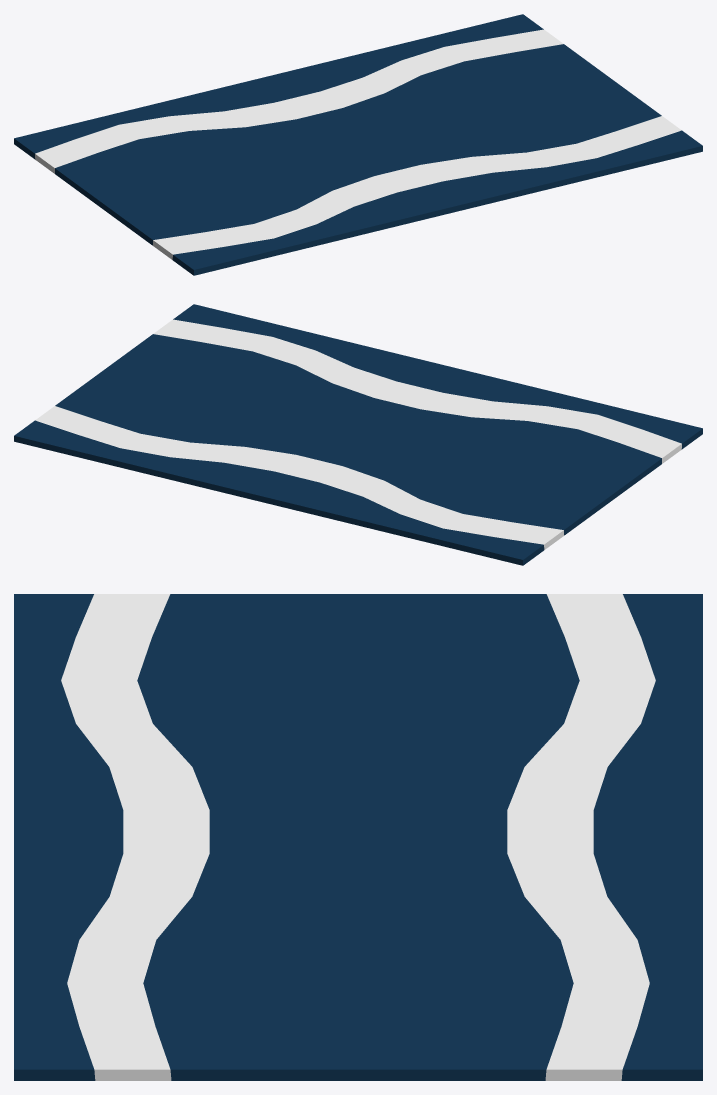
Rendered from Prop_Carpet_01.fbx.
3 views of the same model, one above another, from view 1: azimuth 30°, elevation 25°; view 2: azimuth 150°, elevation 25°; view 3: azimuth 270°, elevation 25° (orthographic). The views are drawn at different scales.
Parts seen in each view (by area): view 1: Prop_Carpet_01; view 2: Prop_Carpet_01; view 3: Prop_Carpet_01.
Boxes of the visible parts, x1,y1,x2,y2 form: Prop_Carpet_01: [14, 14, 702, 275]; Prop_Carpet_01: [14, 304, 702, 565]; Prop_Carpet_01: [14, 594, 702, 1080].
Size of the model in its own units: 175 by 1.92 by 107.
